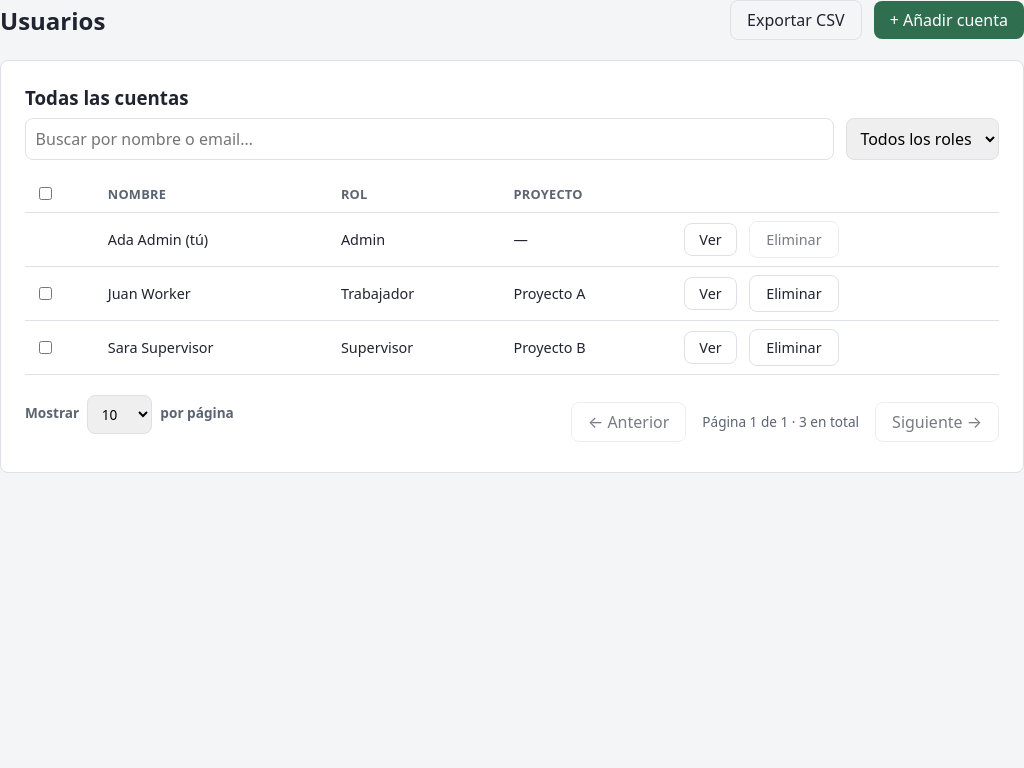
Test: AdminUsers › muestra un error si falla la creación de la cuenta
The width and height of the screenshot is (1024, 768).
Expected: the text "Juan Worker" is shown, [98,266,331,320]
Click the button "+ Añadir cuenta" at (949, 20), box [874,1,1023,39]
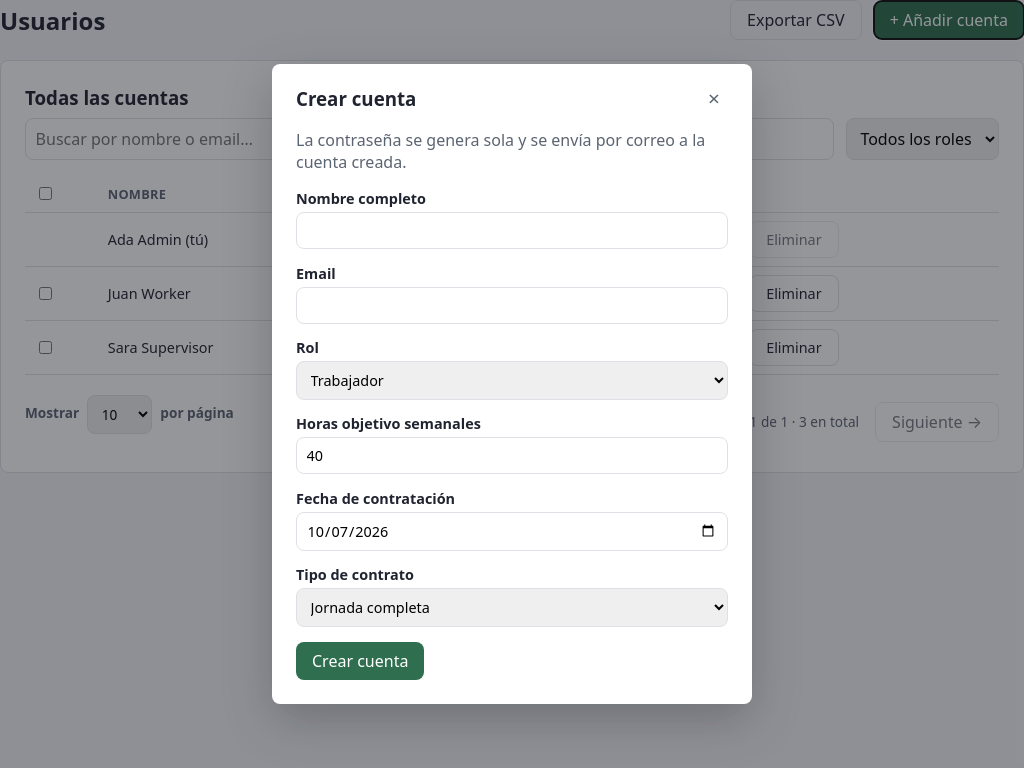
Type "Nuevo Usuario" into the field labelled "Nombre completo" at (512, 231), box [296,212,728,249]
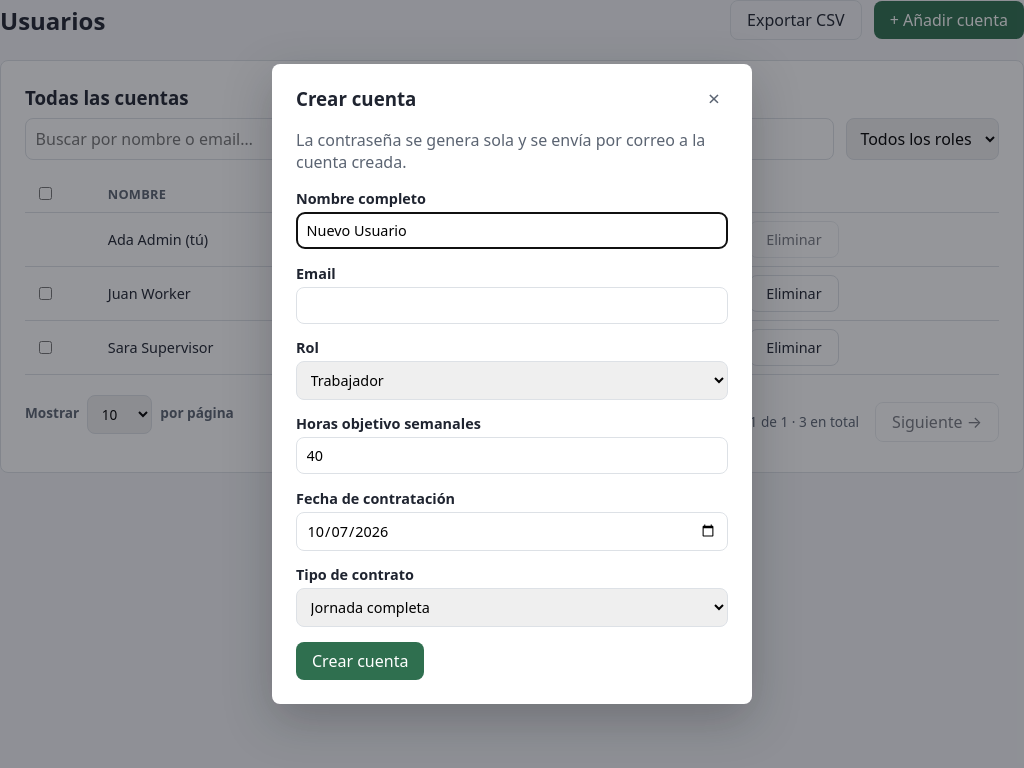
Type "nuevo@test.dev" into the field labelled "Email" at (512, 305), box [296,287,728,324]
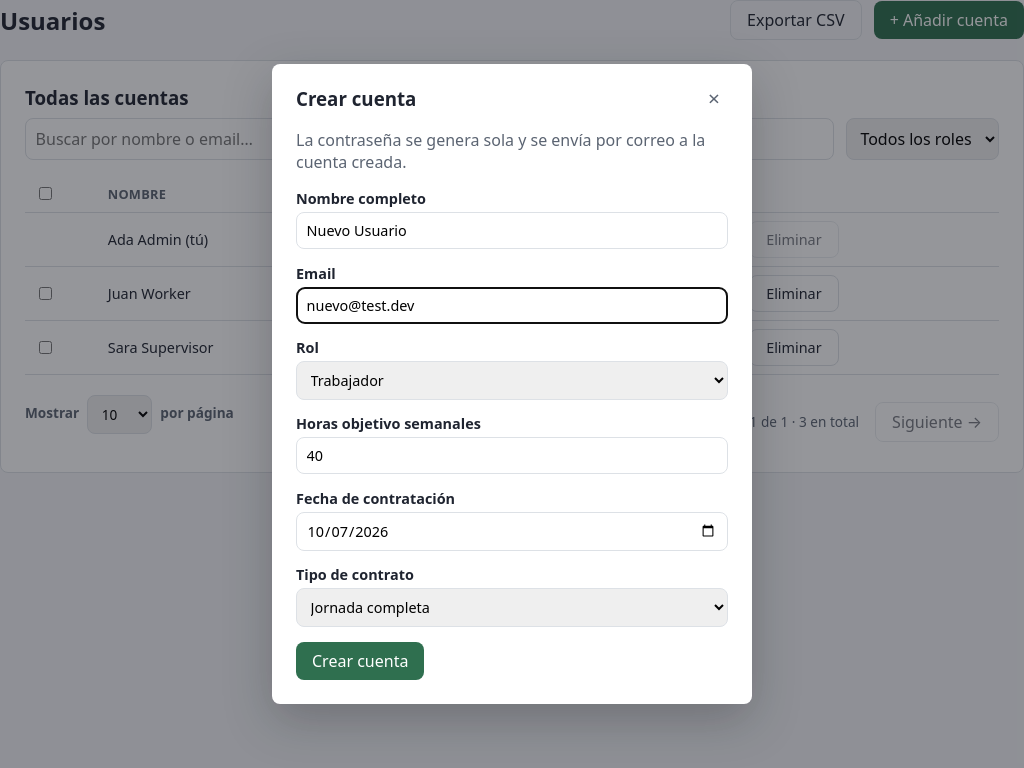
Click the button "Crear cuenta" at (360, 661), box [296,642,424,680]
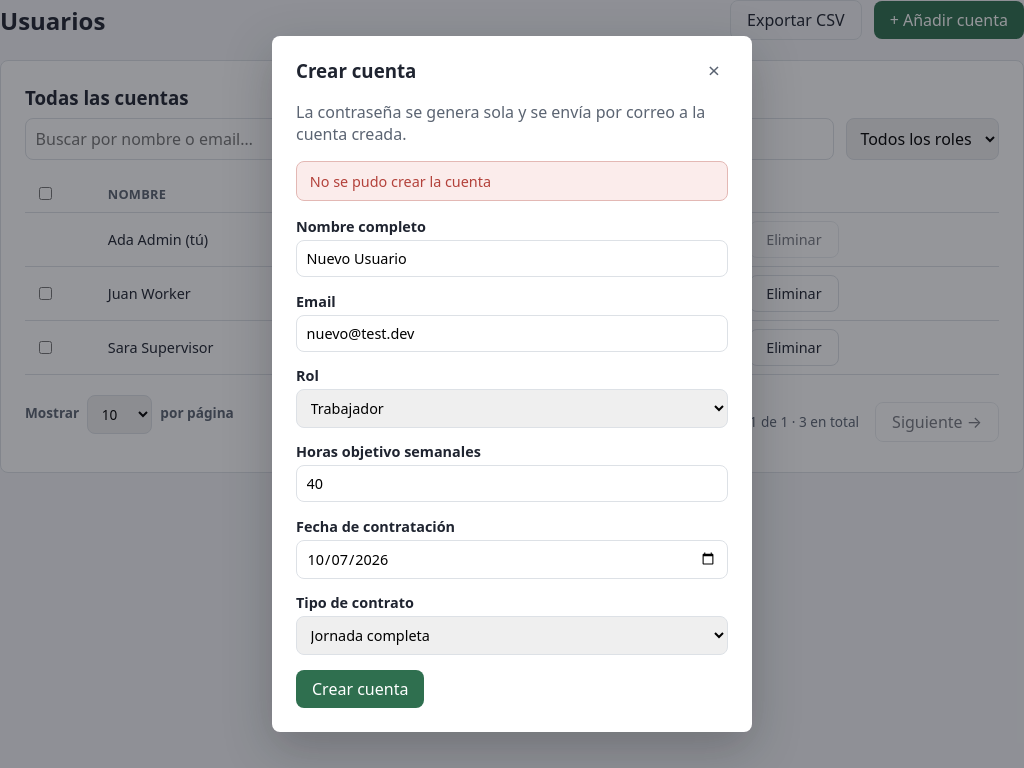
Expected: the text "No se pudo crear la cuenta" is shown, [296,161,728,201]
